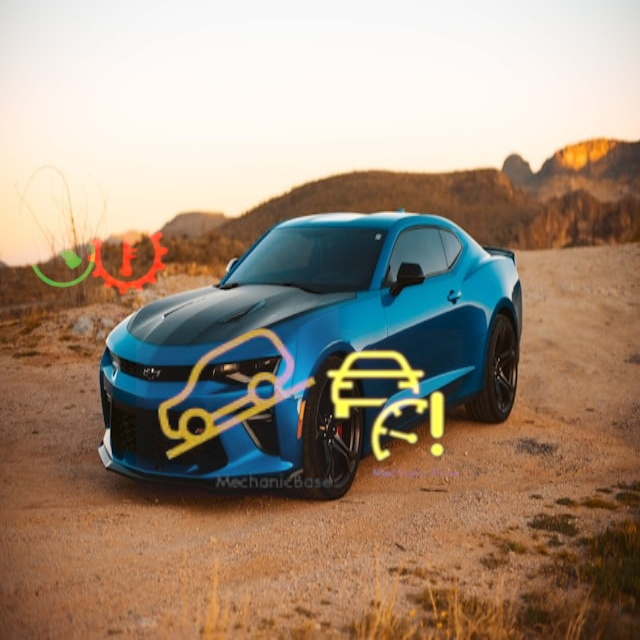symbol: (136, 295, 339, 498), (308, 329, 463, 484), (56, 183, 201, 328), (1, 191, 130, 320)
